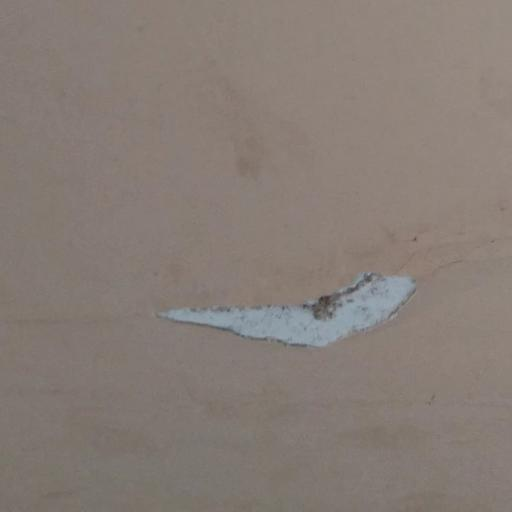peeling: (150, 257, 436, 357)
